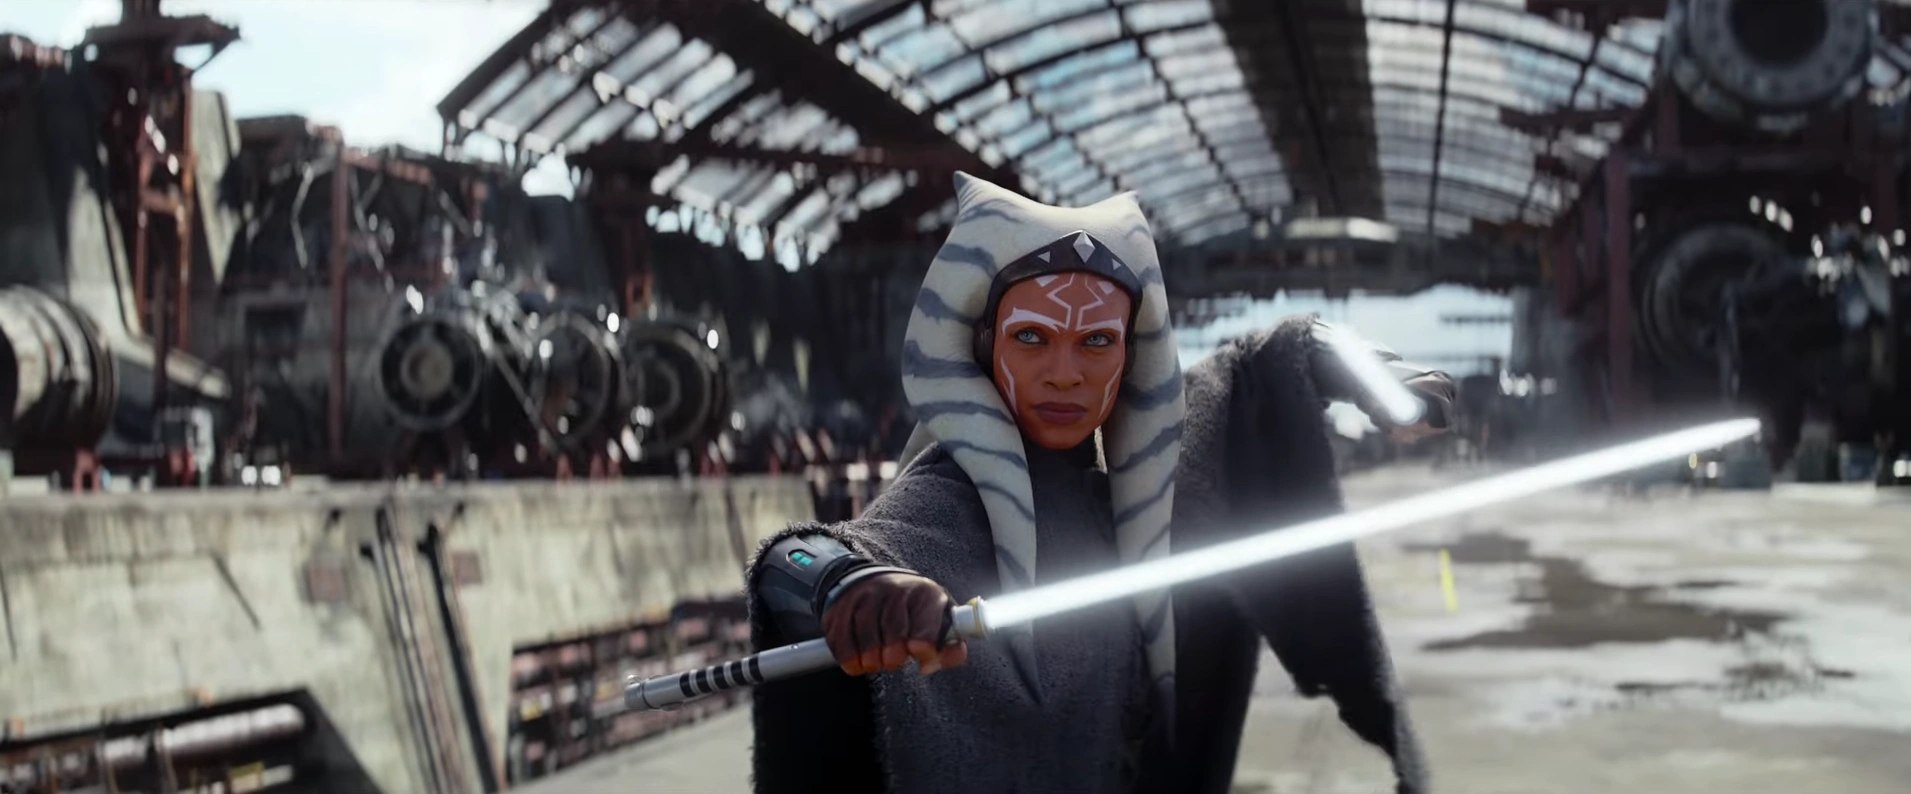Dalek: (624, 412, 1762, 715)
